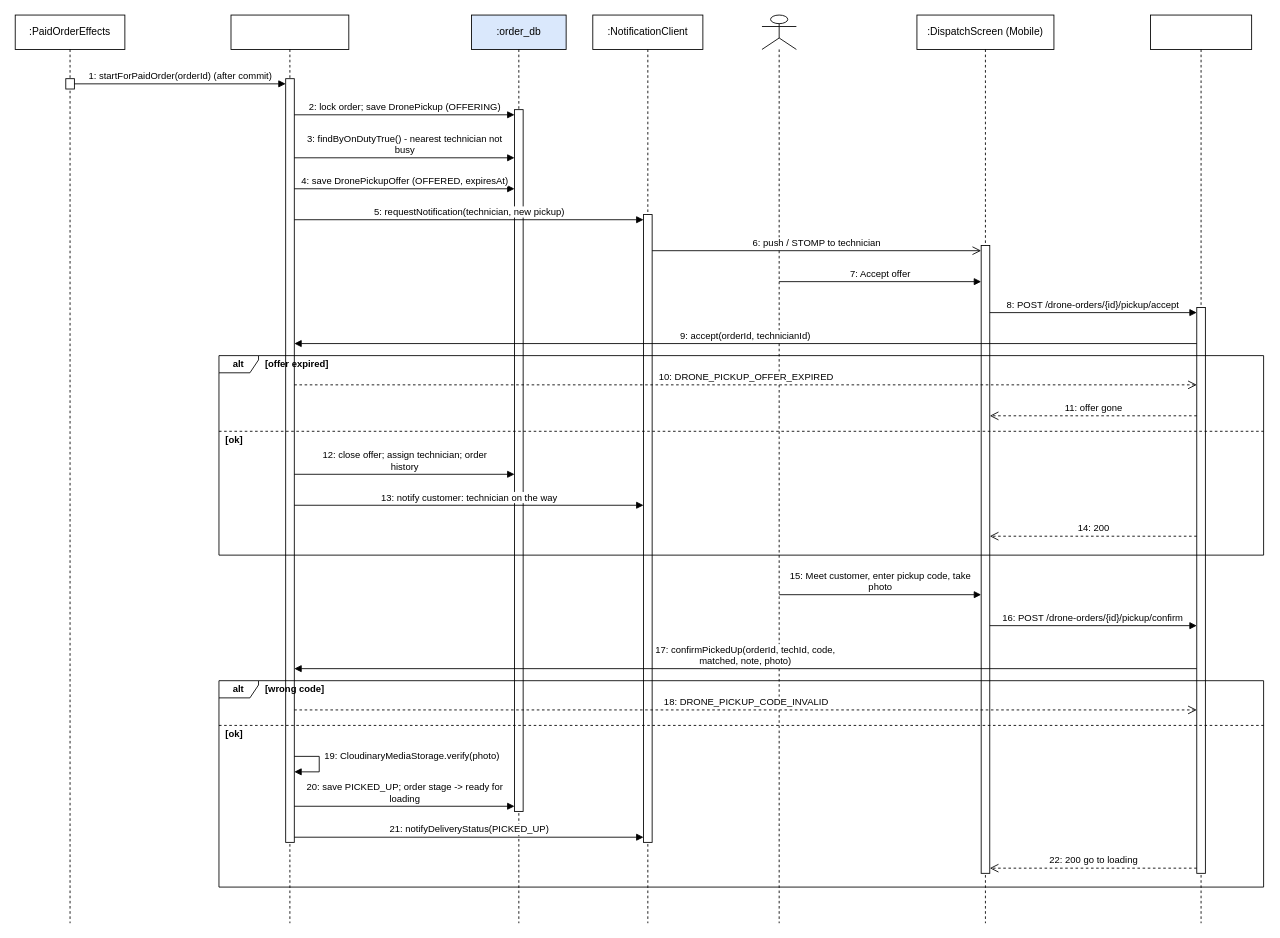
The diagram is 1280 pixels wide and 938 high, and some of its shapes have lost their labels. Here are the shapes that lost their labels. From the top down, the box of each, then its label:
(230, 14, 349, 923): :DronePickupService
(761, 14, 796, 923): Drone Technician
(1150, 14, 1252, 923): :OrderController
